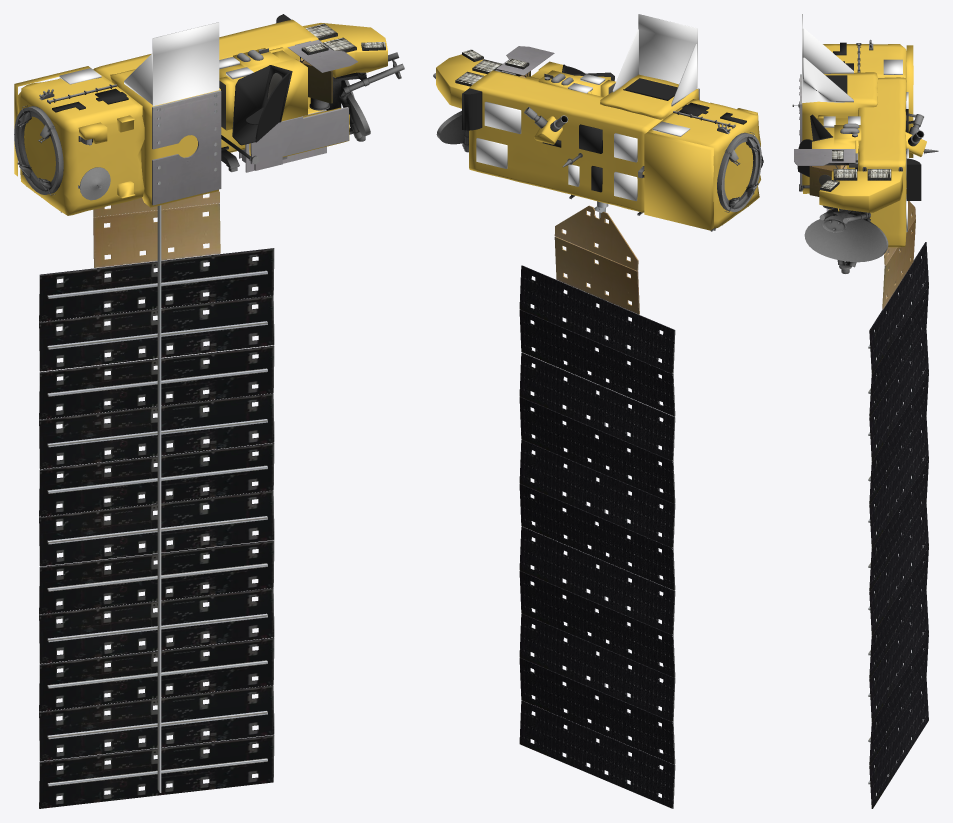
The model's file is aura.glb.
3 renders of one model, left to right at view 1: azimuth 30°, elevation 25°; view 2: azimuth 150°, elevation 25°; view 3: azimuth 270°, elevation 25°, orthographic. The views are drawn at different scales.
Visible parts, largest first — view 1: solar_1, bus_5, bus_3, inst_1, bus_2, bus_1; view 2: solar_2, bus_5, solar_1, bus_2, inst_1, bus_1, bus_3; view 3: solar_2, bus_5, solar_1, inst_1, bus_2, bus_3, bus_1.
Part boxes in pixels (x1,y1,x2,y2): solar_1: (39,191,274,808); bus_5: (14,19,387,215); bus_3: (152,23,385,205); inst_1: (14,41,404,212); bus_2: (59,22,253,106); bus_1: (52,14,292,145); solar_2: (519,266,674,808); bus_5: (436,54,760,230); solar_1: (520,201,675,808); bus_2: (476,14,697,201); inst_1: (433,69,763,231); bus_1: (462,64,746,192); bus_3: (455,46,699,100); solar_2: (870,242,928,808); bus_5: (802,44,926,247); solar_1: (868,201,928,808); inst_1: (792,39,938,273); bus_2: (802,14,908,231); bus_3: (794,74,891,211); bus_1: (797,42,921,200).
Bounding box in the file's own units: 8.73 × 18.74 × 3.43.
Materials: 6 (3 with a texture image).
